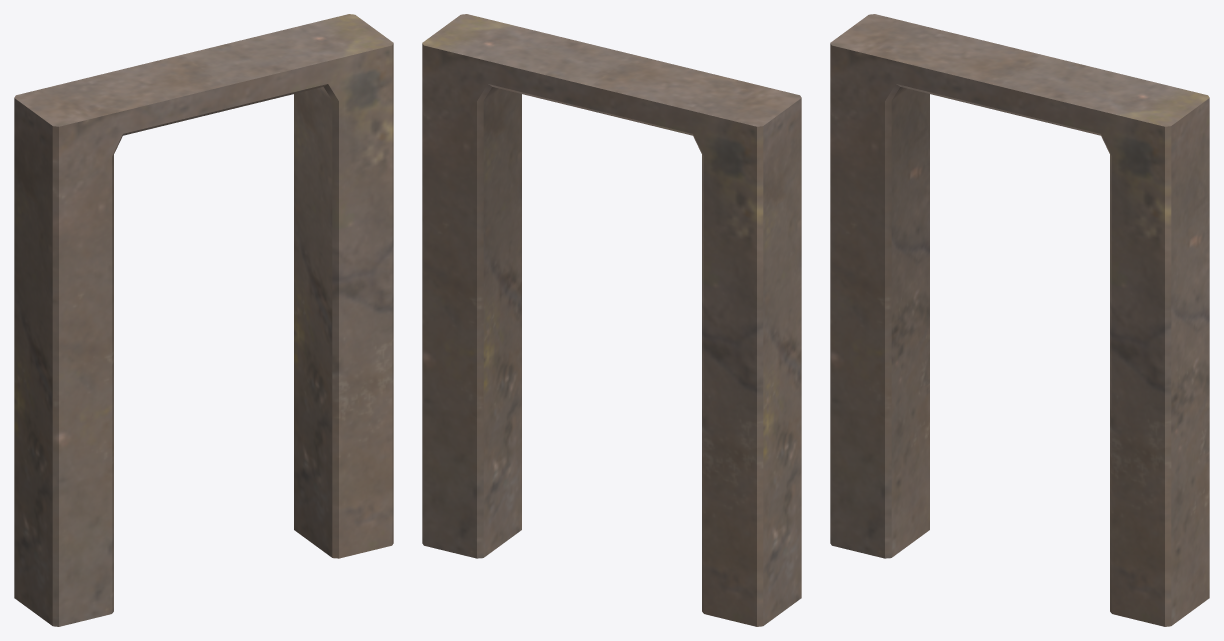
The model's file is ghiway_2a.fbx.
The picture shows the model from 3 angles, left to right: view 1: azimuth 30°, elevation 25°; view 2: azimuth 150°, elevation 25°; view 3: azimuth 330°, elevation 25°; orthographic projection.
Visible parts, largest first — view 1: ghiway_2a; view 2: ghiway_2a; view 3: ghiway_2a.
Part boxes in pixels (left/top/right/bottom): ghiway_2a: left=14, top=14, right=393, bottom=626; ghiway_2a: left=422, top=14, right=801, bottom=626; ghiway_2a: left=830, top=14, right=1209, bottom=626.
Bounding box in the file's own units: 1327 × 1860 × 290.
Materials: 1 (1 with a texture image).
